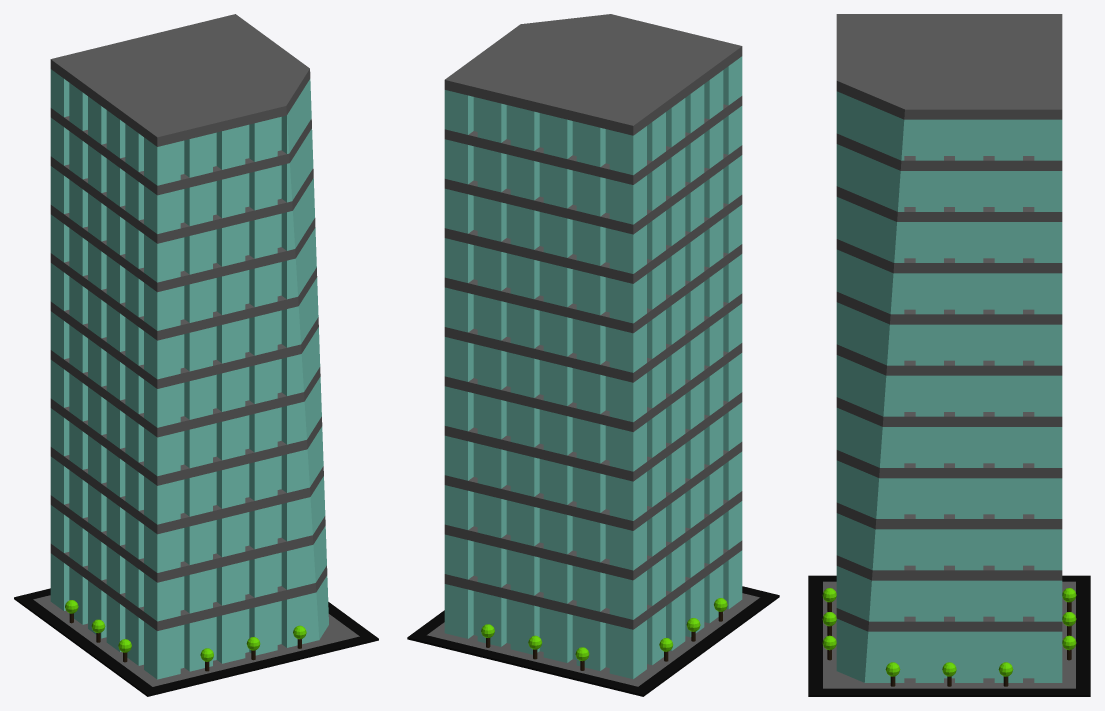
Rendered from skyscraper_c.FBX.
3 views of the same model, side by side, from view 1: azimuth 30°, elevation 25°; view 2: azimuth 150°, elevation 25°; view 3: azimuth 270°, elevation 25° (orthographic). The views are drawn at different scales.
Visible parts, largest first — view 1: Layer:windows, Layer:bldgconcrete, Layer:street, Layer:greenery; view 2: Layer:windows, Layer:bldgconcrete, Layer:street, Layer:greenery; view 3: Layer:windows, Layer:bldgconcrete, Layer:street, Layer:greenery, Layer:wood.
Boxes of the visible parts, bbox=[...] form: Layer:windows: bbox=[50, 69, 328, 679]; Layer:bldgconcrete: bbox=[33, 14, 359, 686]; Layer:street: bbox=[14, 588, 378, 696]; Layer:greenery: bbox=[65, 600, 306, 661]; Layer:windows: bbox=[444, 56, 742, 679]; Layer:bldgconcrete: bbox=[427, 14, 759, 686]; Layer:street: bbox=[407, 586, 779, 696]; Layer:greenery: bbox=[481, 598, 727, 661]; Layer:windows: bbox=[836, 91, 1062, 682]; Layer:bldgconcrete: bbox=[823, 14, 1075, 688]; Layer:street: bbox=[808, 575, 1090, 696]; Layer:greenery: bbox=[822, 588, 1076, 676]; Layer:wood: bbox=[827, 602, 1071, 686].
Size of the model in its own units: 4000 by 8992 by 4000.
